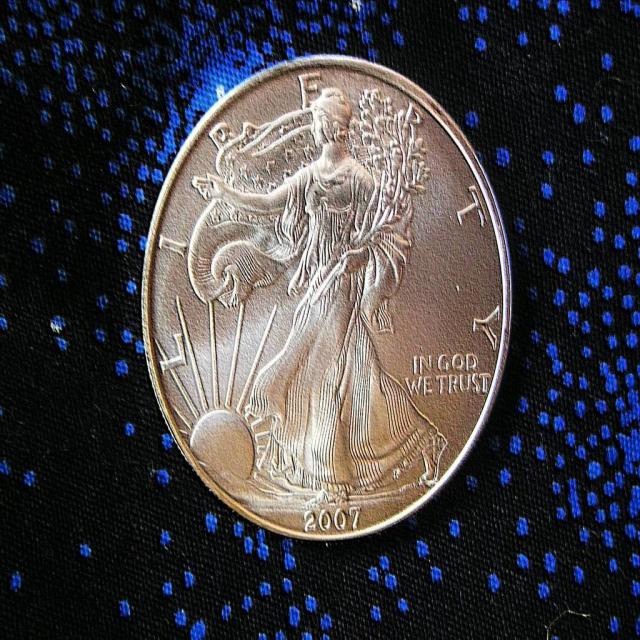Coin: (139, 51, 514, 542)
